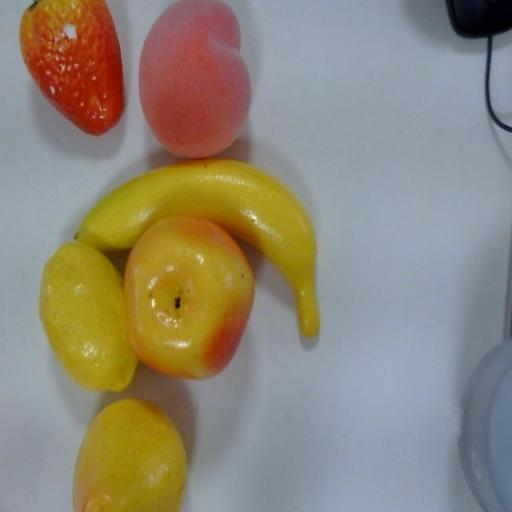Ripe: (70, 159, 352, 335), (112, 210, 260, 389), (141, 0, 279, 154), (28, 219, 138, 396), (14, 0, 144, 145), (68, 386, 204, 512)
